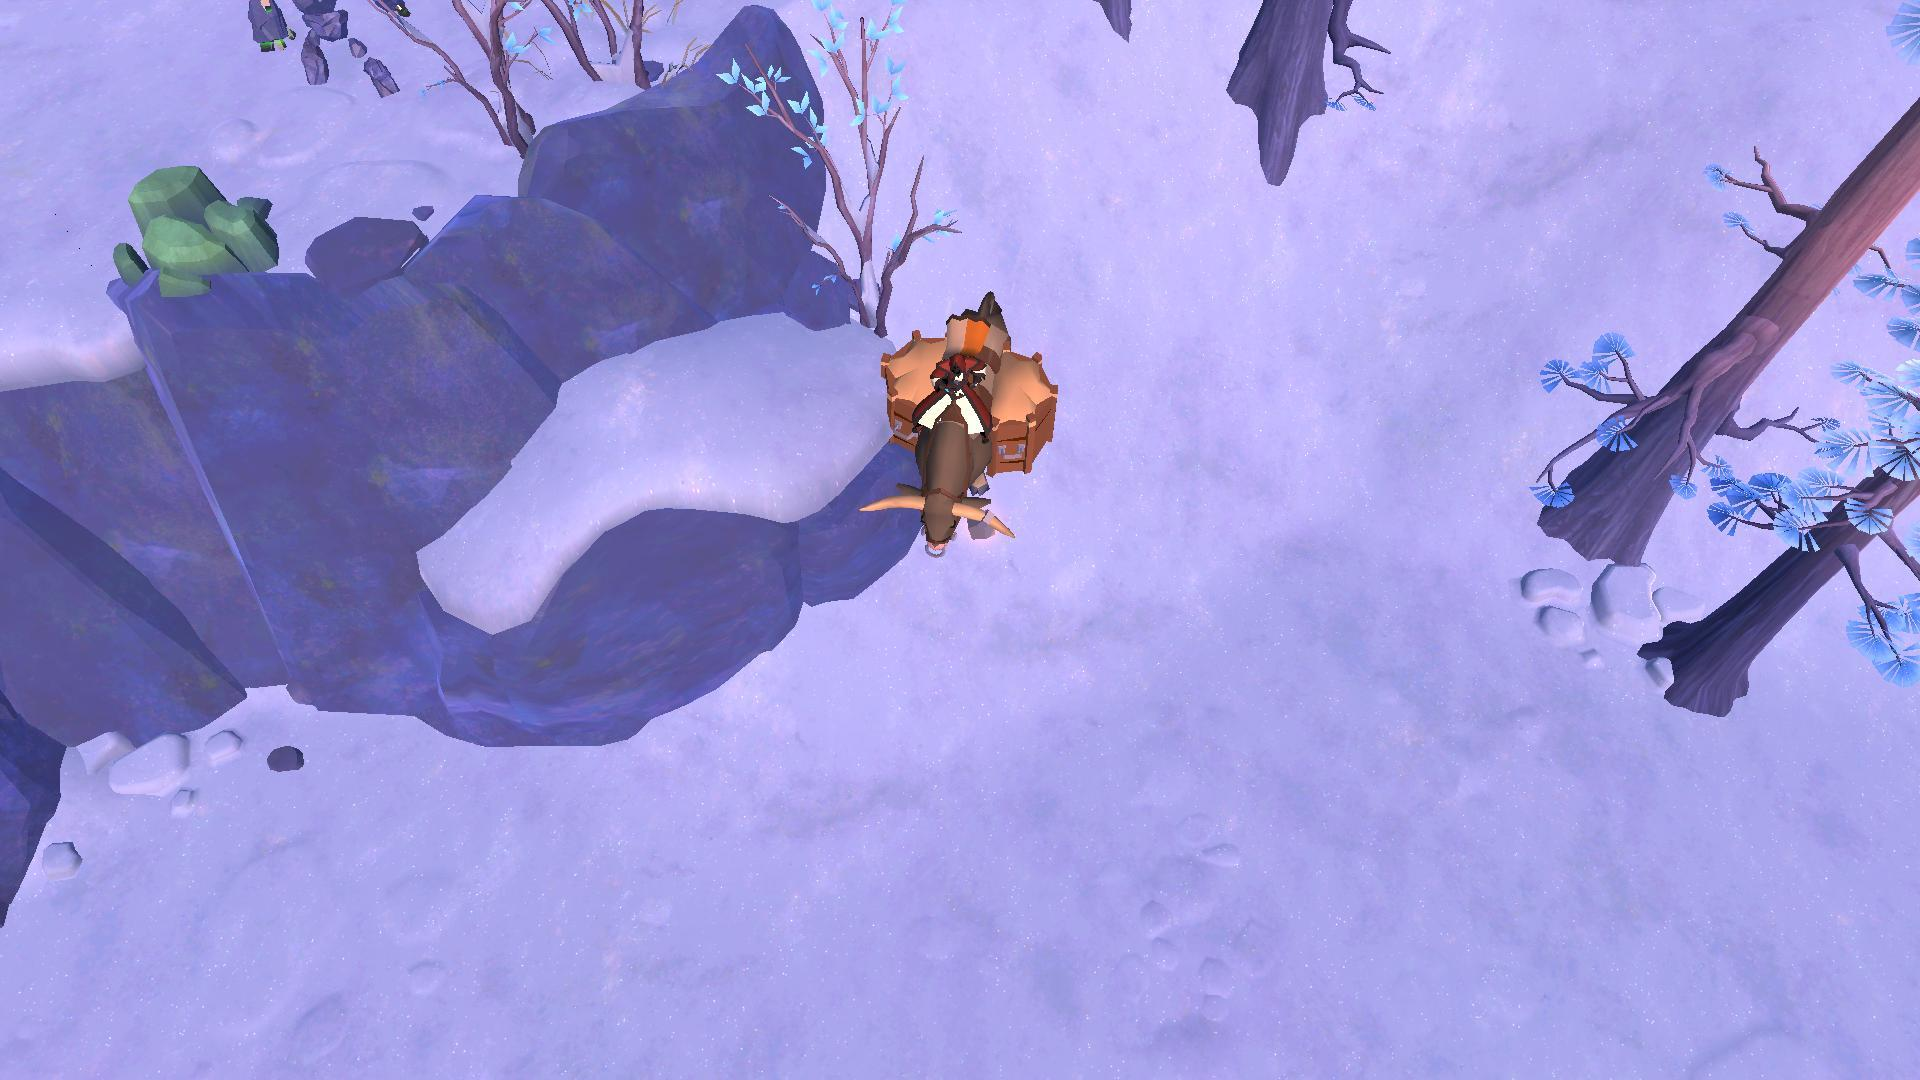rock_t3: (105, 153, 278, 310)
